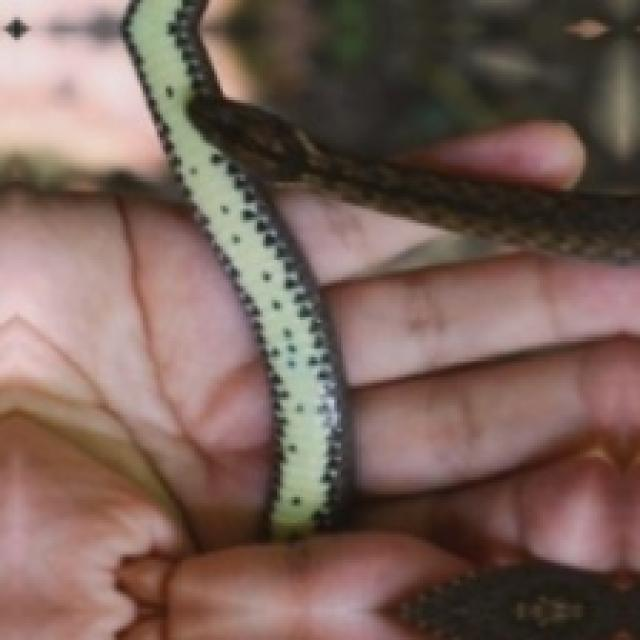reinhardts lined snake: (123, 0, 637, 534)
